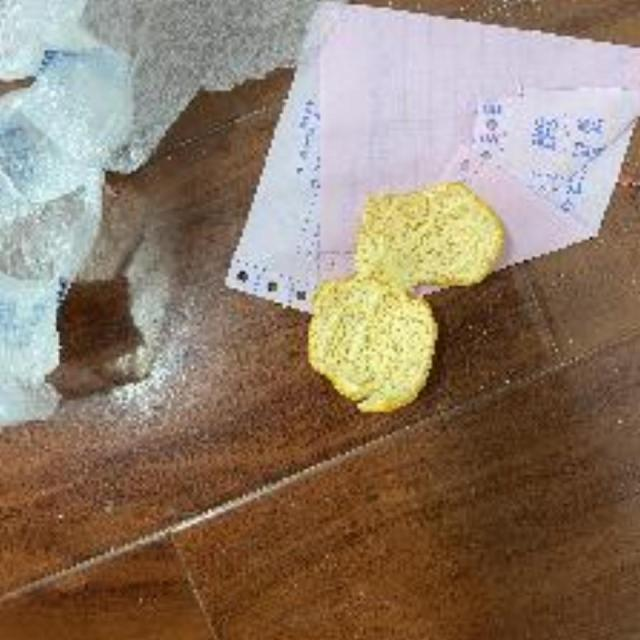orange-peel: (302, 176, 508, 415)
